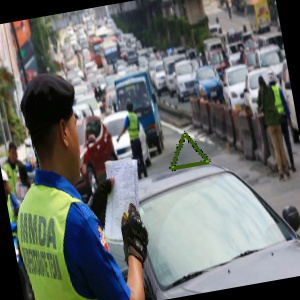triangle: (166, 127, 215, 172)
